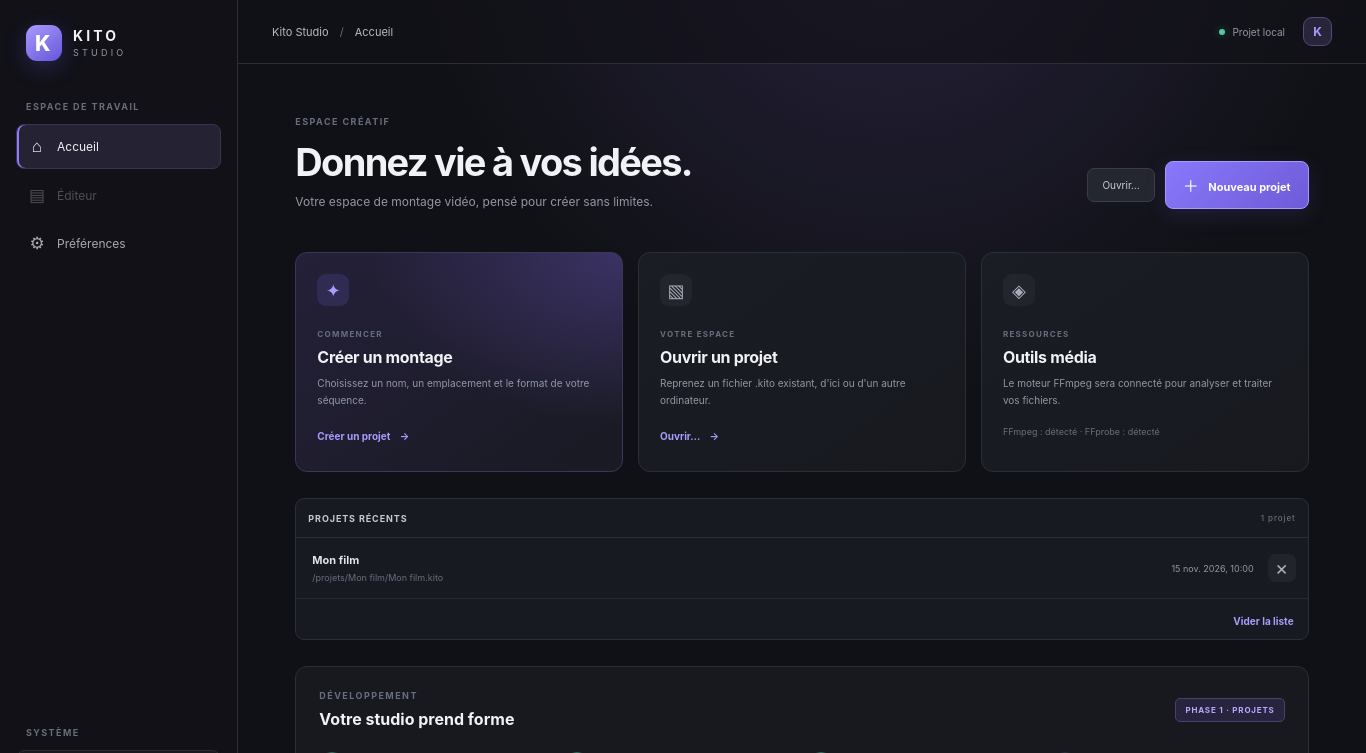
Test: ouverture › explique une version incompatible
Click the text "Mon film" at (336, 560), box [312,553,359,567]
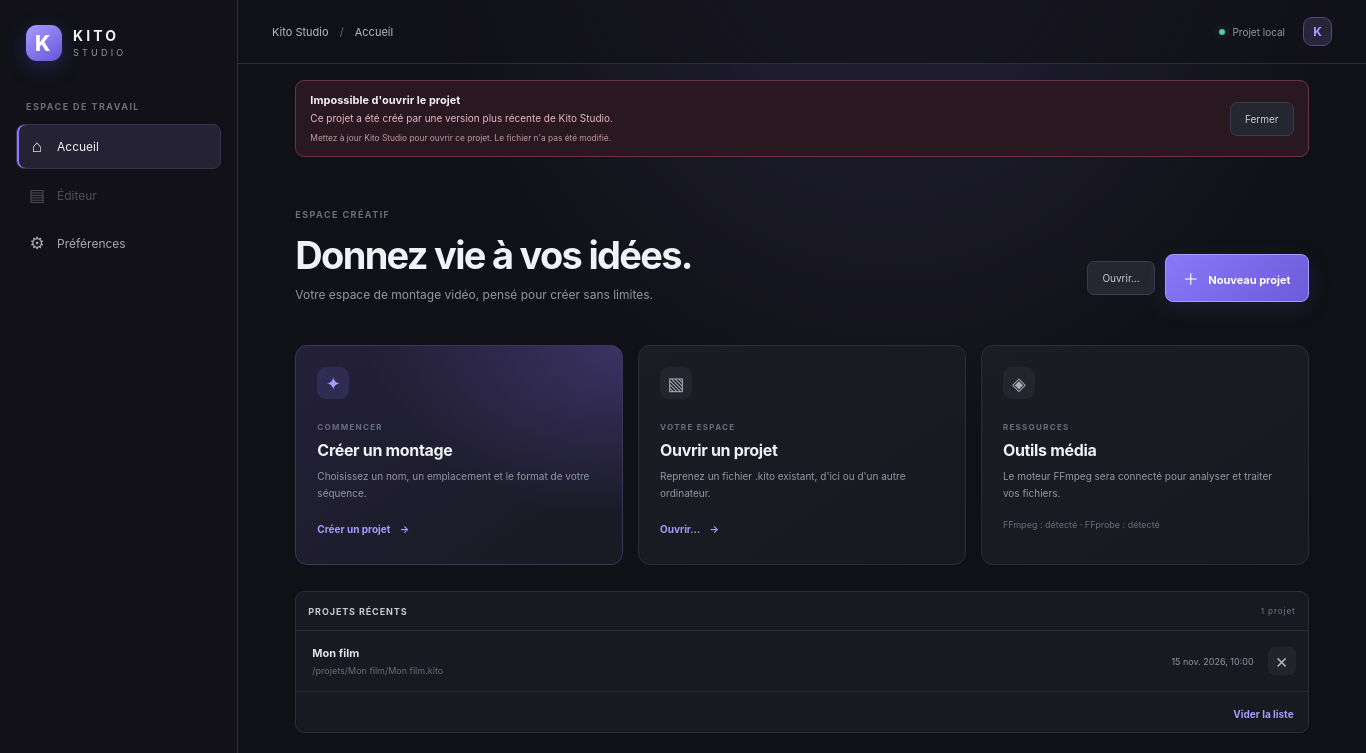
Expected: the message shows "Mettez à jour Kito Studio", [310,133,611,143]
